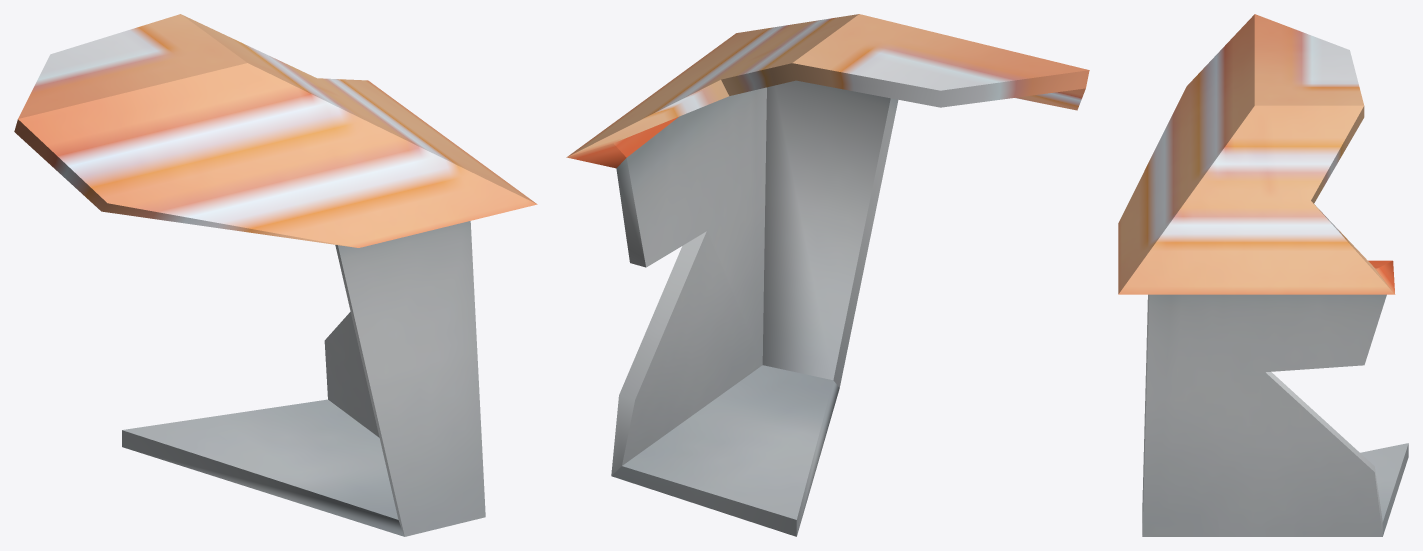
File: B3Broke04.FBX
3 renders of one model, left to right at view 1: azimuth 30°, elevation 25°; view 2: azimuth 150°, elevation 25°; view 3: azimuth 270°, elevation 25°, orthographic. The views are drawn at different scales.
Visible parts, largest first — view 1: B3Broke04; view 2: B3Broke04; view 3: B3Broke04.
Boxes of the visible parts, x1,y1,x2,y2 form: B3Broke04: (14,14,537,536); B3Broke04: (566,14,1089,536); B3Broke04: (1118,14,1408,536).
Bounding box in the file's own units: 37.3 × 36.38 × 26.32.
